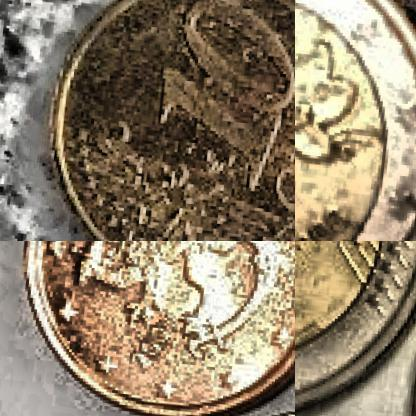coin: (29, 0, 294, 240), (5, 241, 294, 415), (295, 0, 415, 240), (295, 241, 415, 415)
